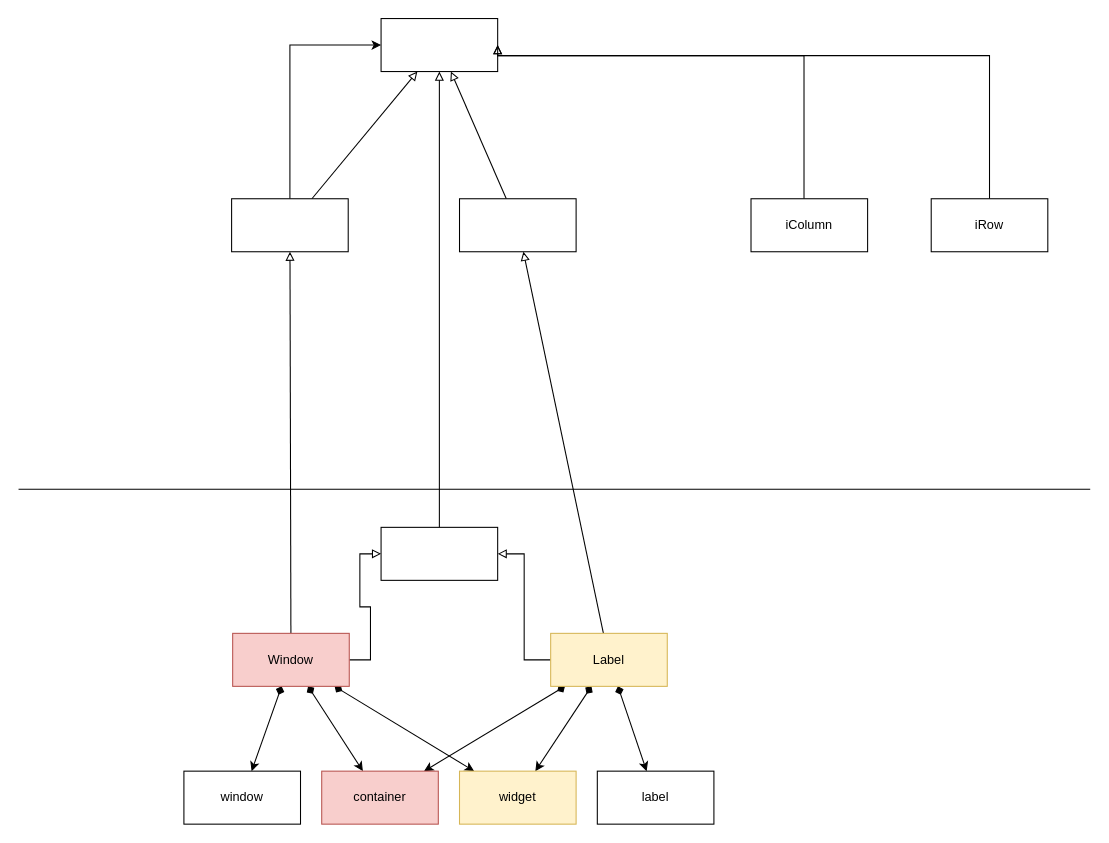
Some shapes in this 1109 by 843 pixel diagram are drawn without their labels. Each missing label, with the centre of its shape:
"aWidget" belongs at [439,553].
"iLabel" belongs at [517,225].
"iWidget" belongs at [439,44].
"iWindow" belongs at [289,225].
